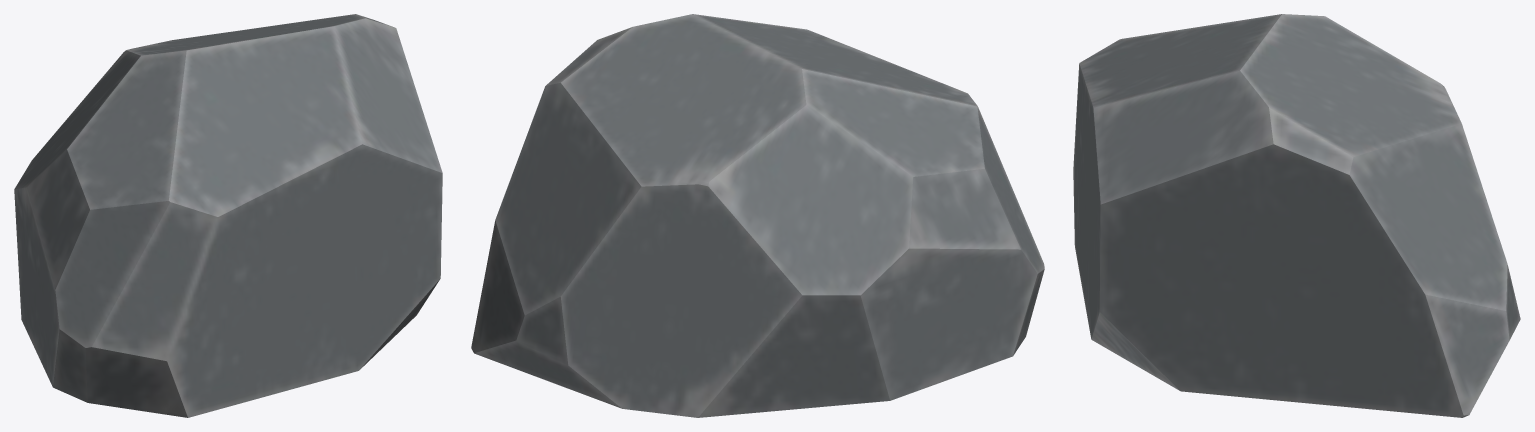
File: rock7.glb
3 renders of one model, left to right at view 1: azimuth 30°, elevation 25°; view 2: azimuth 150°, elevation 25°; view 3: azimuth 270°, elevation 25°, orthographic. The views are drawn at different scales.
Parts seen in each view (by area): view 1: rock_007; view 2: rock_007; view 3: rock_007.
Boxes of the visible parts, left/top/right/bottom form: rock_007: left=14, top=14, right=442, bottom=417; rock_007: left=471, top=14, right=1044, bottom=417; rock_007: left=1073, top=14, right=1520, bottom=417.
Size of the model in its own units: 0.2857 by 0.1839 by 0.254.
Materials: 1 (1 with a texture image).
